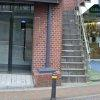stairs: (62, 10, 90, 82)
